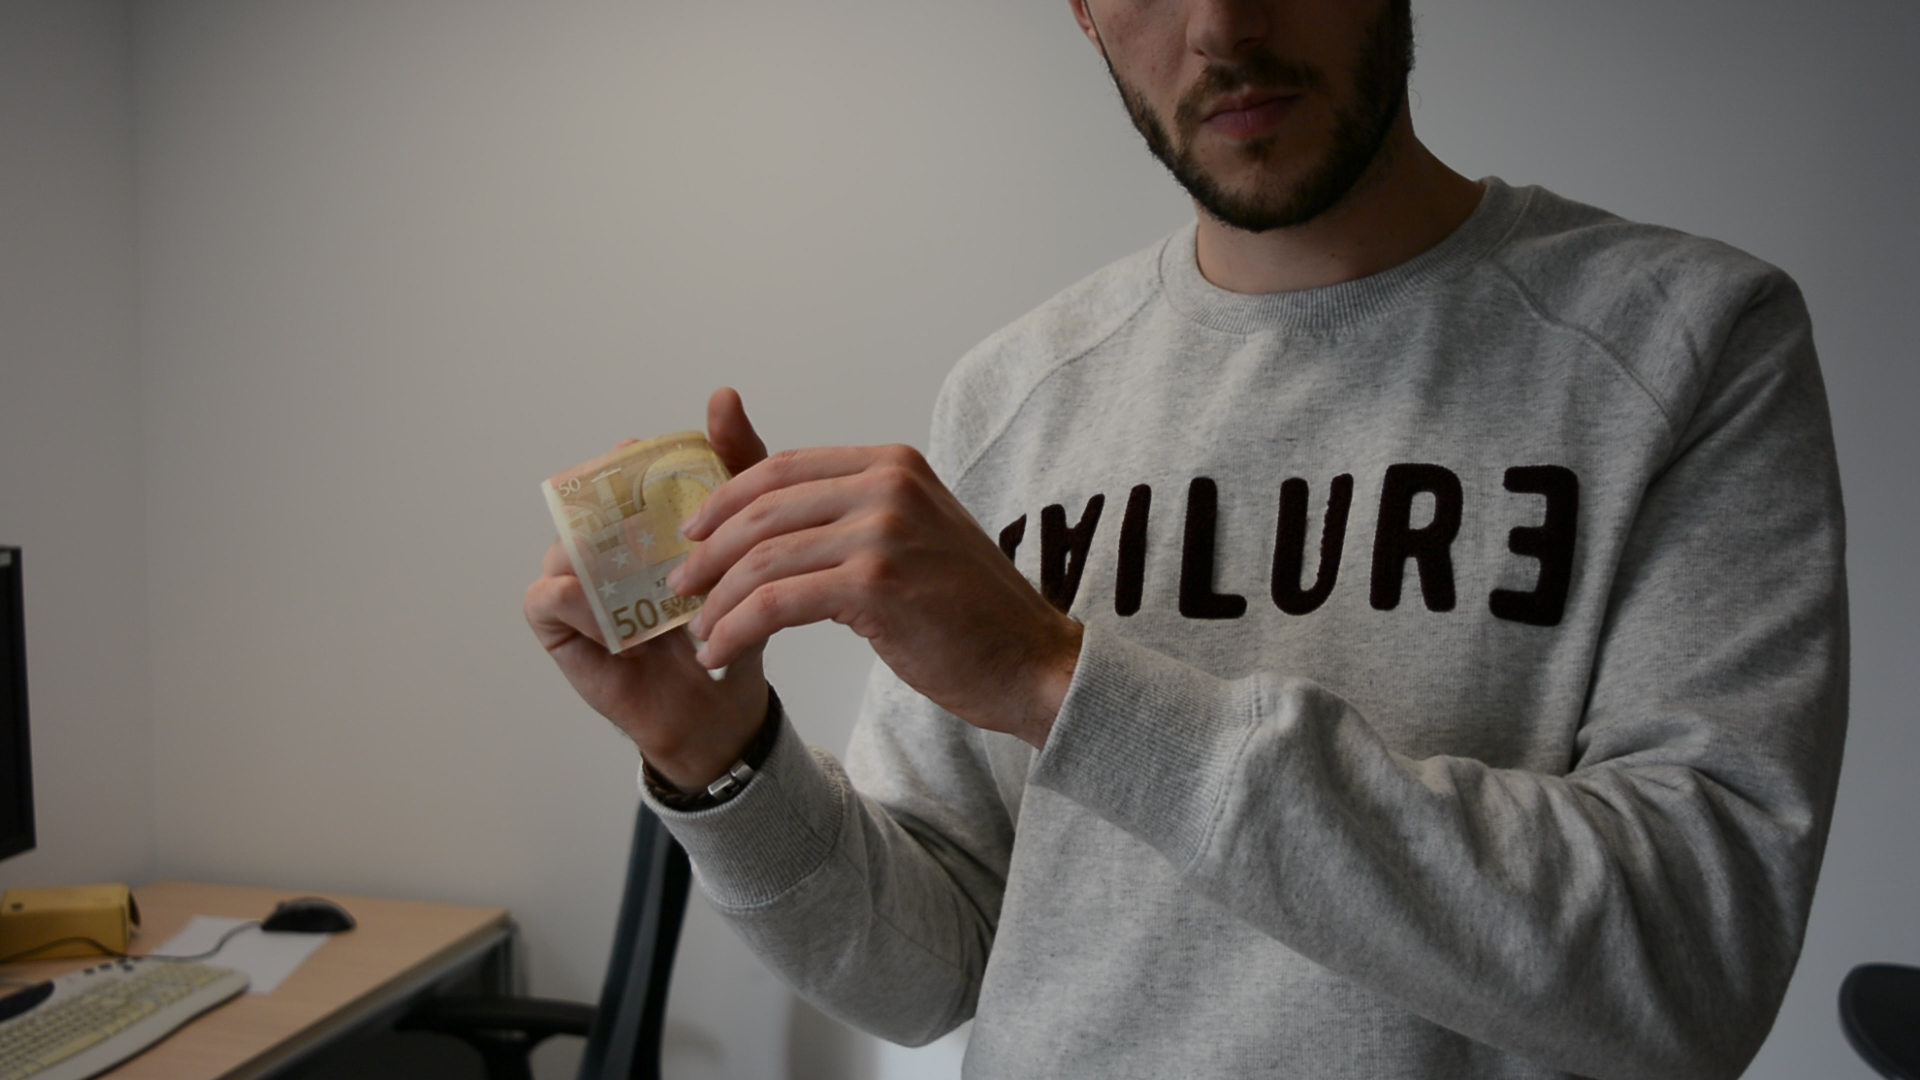billete: (539, 429, 738, 657)
